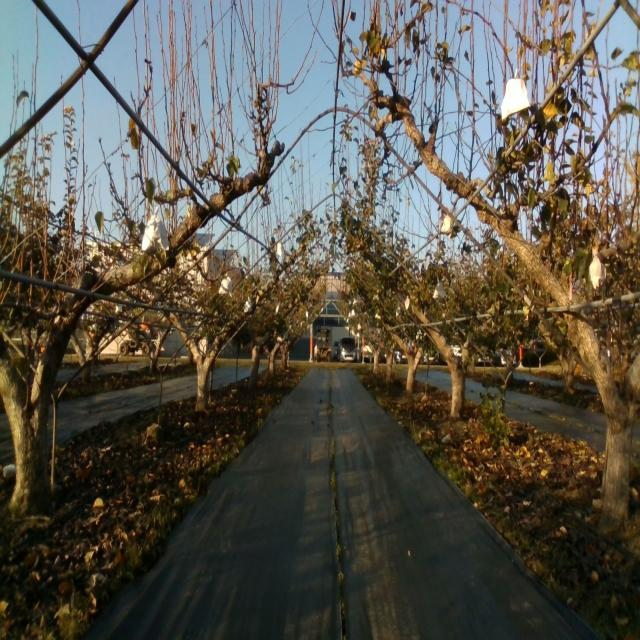pearbags: (500, 70, 530, 121), (141, 204, 170, 250), (590, 248, 606, 288), (218, 272, 232, 295), (441, 214, 453, 237), (433, 280, 445, 300)
